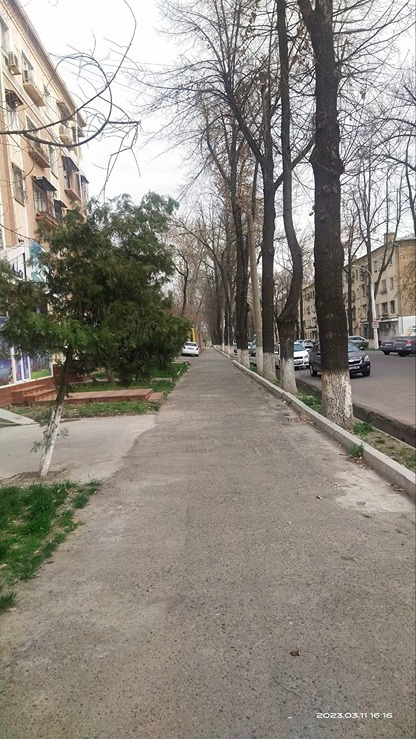car: (383, 331, 416, 358), (293, 336, 314, 375), (182, 338, 202, 358)
tree: (2, 185, 182, 468), (286, 0, 372, 420), (255, 0, 314, 379)
